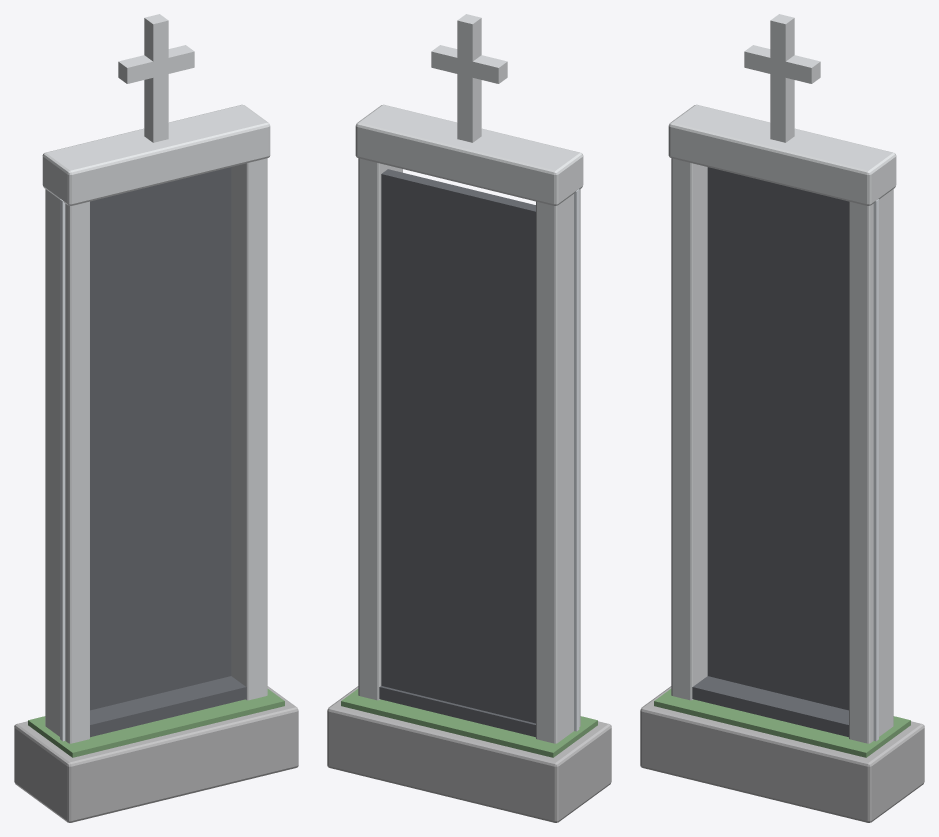
File: pylon.glb
The picture shows the model from 3 angles, left to right: view 1: azimuth 30°, elevation 25°; view 2: azimuth 150°, elevation 25°; view 3: azimuth 330°, elevation 25°; orthographic projection.
Visible parts, largest first — view 1: Cube.007, Cube.002, Cube, Cube.001, Cube.003; view 2: Cube.007, Cube.002, Cube, Cube.001, Cube.003; view 3: Cube.007, Cube.002, Cube, Cube.001, Cube.003.
Part boxes in pixels (left/top/right/bottom): Cube.007: left=90, top=167, right=246, bottom=737; Cube.002: left=42, top=14, right=270, bottom=743; Cube: left=14, top=686, right=298, bottom=822; Cube.001: left=28, top=689, right=284, bottom=757; Cube.003: left=60, top=199, right=65, bottom=741; Cube.007: left=379, top=169, right=535, bottom=737; Cube.002: left=355, top=14, right=583, bottom=743; Cube: left=327, top=686, right=611, bottom=822; Cube.001: left=341, top=689, right=597, bottom=757; Cube.003: left=574, top=189, right=579, bottom=731; Cube.007: left=692, top=167, right=848, bottom=737; Cube.002: left=668, top=14, right=896, bottom=743; Cube: left=640, top=686, right=924, bottom=822; Cube.001: left=654, top=689, right=910, bottom=757; Cube.003: left=873, top=199, right=878, bottom=741.
Size of the model in its own units: 2.4 by 7.5 by 1.
